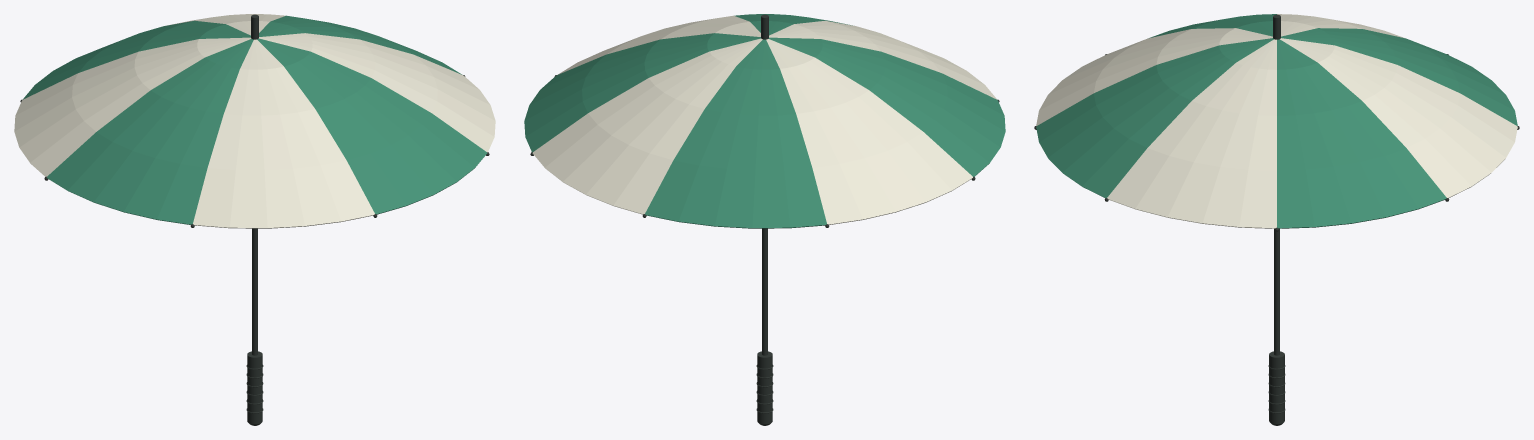
File: umbrella_golf.glb
The picture shows the model from 3 angles, left to right: view 1: azimuth 30°, elevation 25°; view 2: azimuth 150°, elevation 25°; view 3: azimuth 270°, elevation 25°; orthographic projection.
Visible parts, largest first — view 1: GolfUmbrella_Canopy, GolfUmbrella_Straight_Grip, GolfUmbrella_Long_Shaft; view 2: GolfUmbrella_Canopy, GolfUmbrella_Straight_Grip, GolfUmbrella_Long_Shaft; view 3: GolfUmbrella_Canopy, GolfUmbrella_Straight_Grip, GolfUmbrella_Long_Shaft.
Part boxes in pixels (<box>): GolfUmbrella_Canopy: <box>14,14,495,228</box>; GolfUmbrella_Straight_Grip: <box>247,351,262,424</box>; GolfUmbrella_Long_Shaft: <box>252,228,257,355</box>; GolfUmbrella_Canopy: <box>524,14,1005,228</box>; GolfUmbrella_Straight_Grip: <box>757,351,772,424</box>; GolfUmbrella_Long_Shaft: <box>762,228,767,355</box>; GolfUmbrella_Canopy: <box>1036,14,1517,228</box>; GolfUmbrella_Straight_Grip: <box>1269,351,1284,424</box>; GolfUmbrella_Long_Shaft: <box>1274,228,1279,355</box>.
Size of the model in its own units: 1.36 by 1.27 by 1.36.
